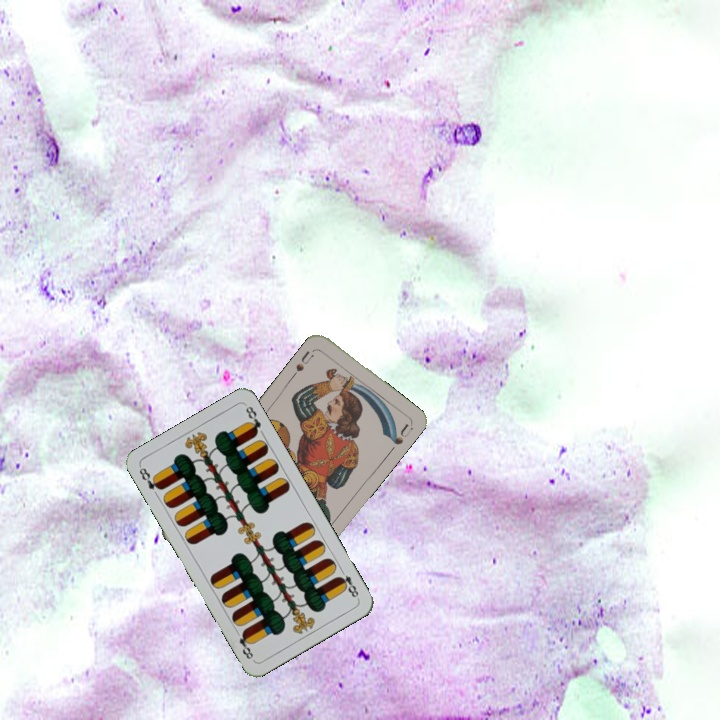E8: (334, 564, 361, 602), (135, 463, 165, 493)
SU: (291, 345, 319, 374)
